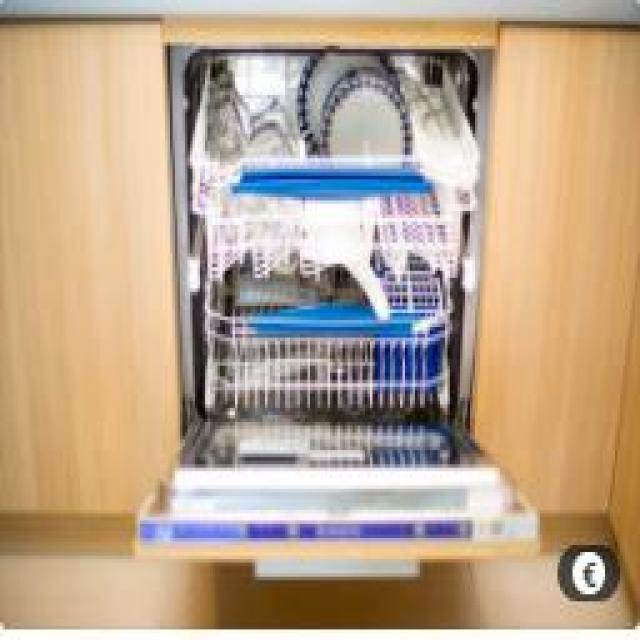dishwasher: (133, 7, 545, 573)
